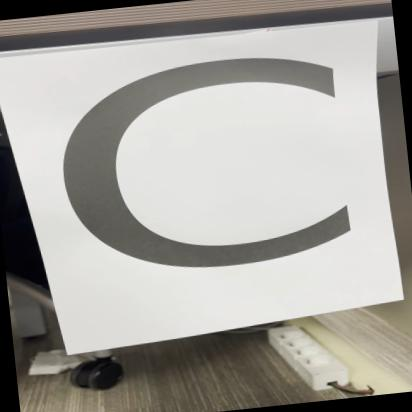seat: (0, 12, 408, 356)
